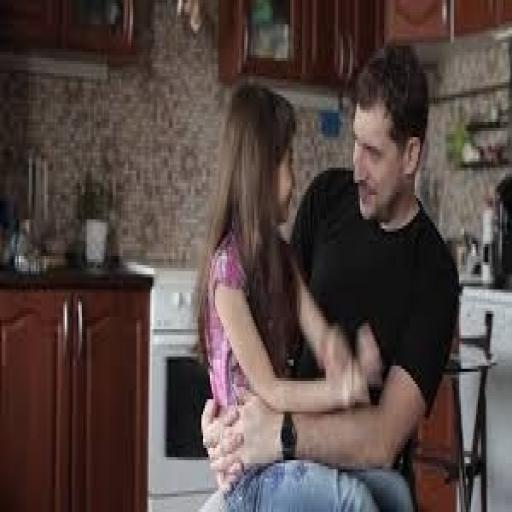hugging: (196, 40, 462, 509)
